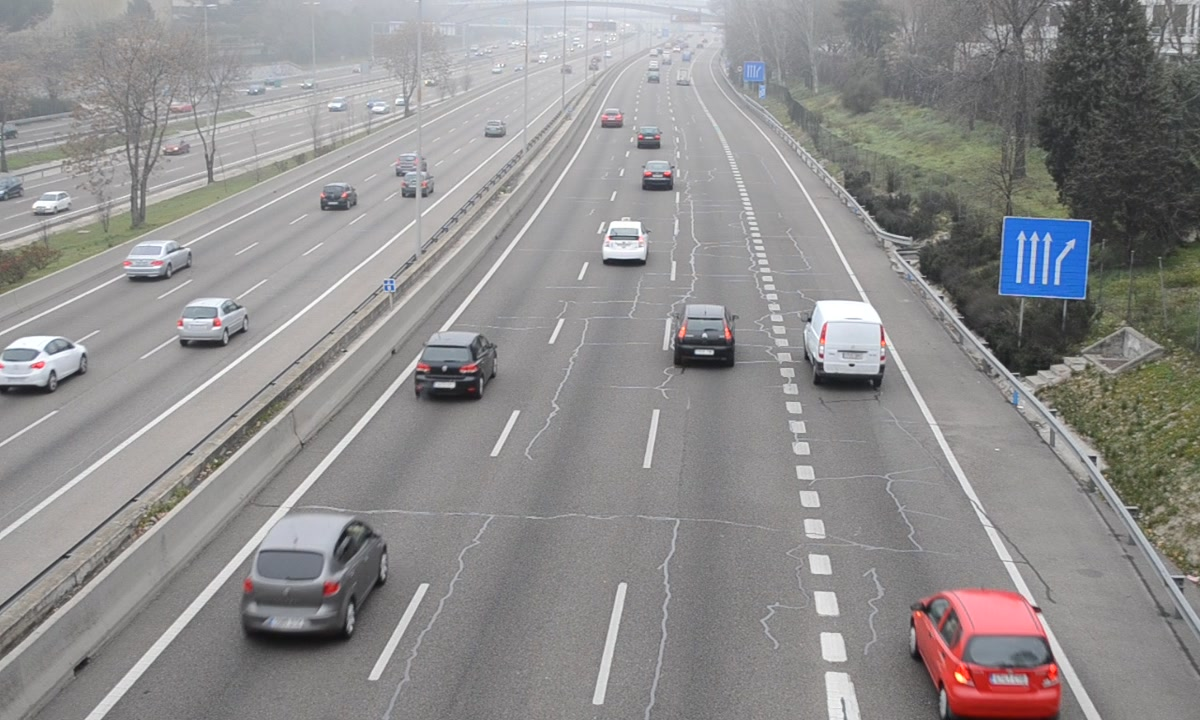car: (240, 513, 390, 644), (913, 590, 1062, 720), (416, 330, 497, 398), (675, 303, 734, 362), (601, 219, 647, 264), (641, 159, 673, 189), (635, 123, 662, 149), (600, 106, 623, 129)
van: (806, 300, 888, 380)
